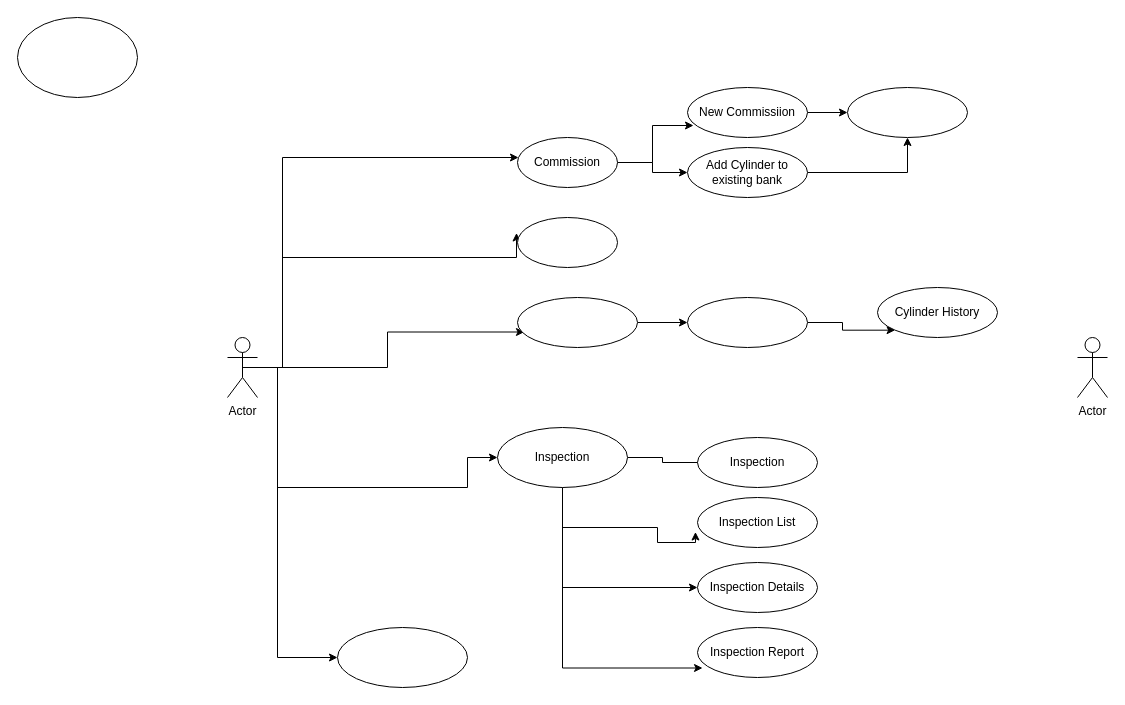
Some shapes in this 1125 by 705 pixel diagram are drawn without their labels. Here are the shapes that lost their labels. From the top down, the centre of each, then its label:
At (77,57): "Report generation".
At (907,112): "Add multiple cylinder".
At (567,242): "Re -Commission".
At (577,322): "Cylinder Banks List".
At (747,322): "Cylinder Bank Details".
At (402,657): "Offline Operations".
